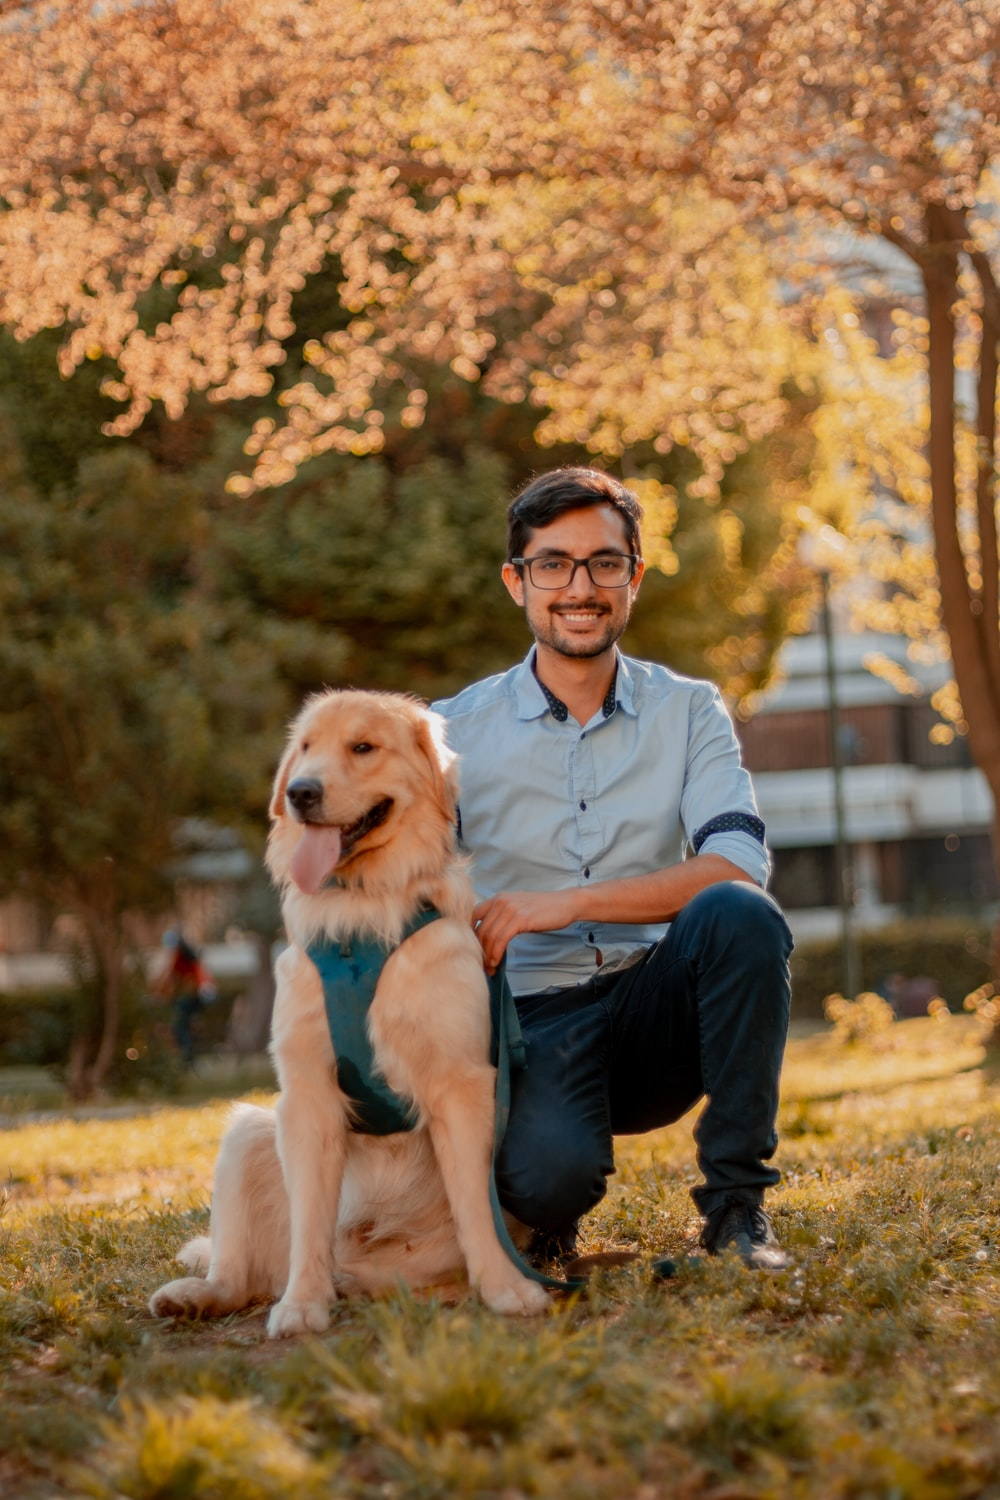Dog: (160, 668, 550, 1360)
Person: (449, 414, 863, 1265)
